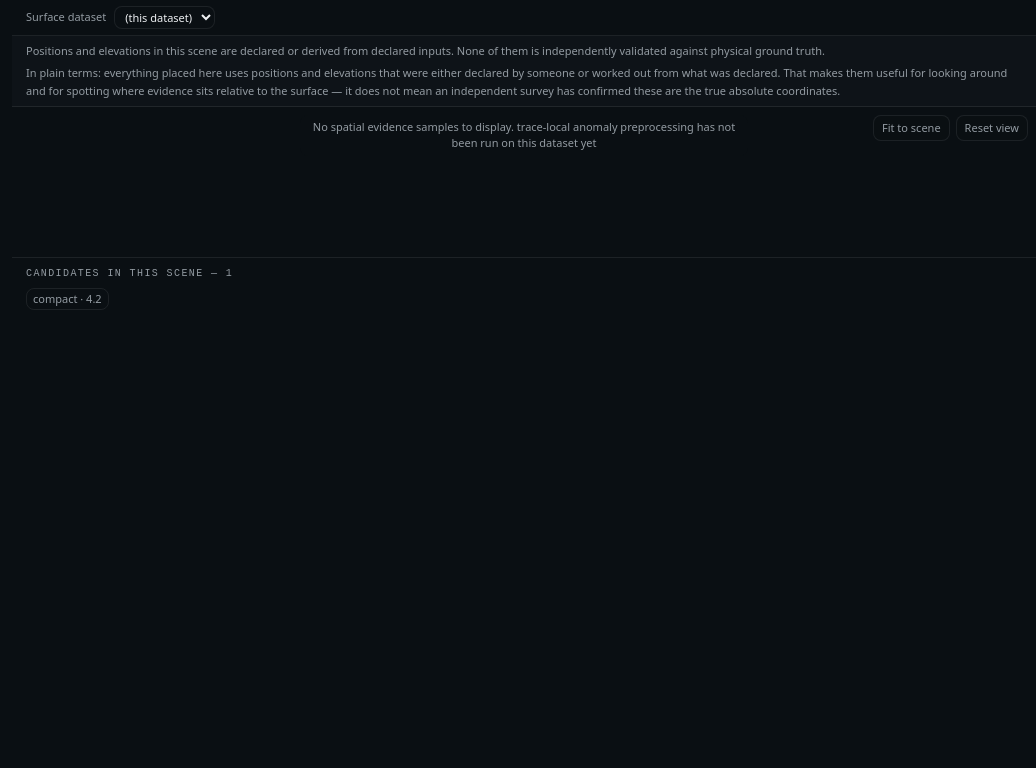
resolved scenes › shows the existing human review, read-only, for a reviewed candidate (Section 19)
expect the heading "Candidates in this scene — 1" is shown: met, box [26, 268, 233, 279]
Click the button "compact · 4.2" at (67, 299), box [26, 288, 109, 310]
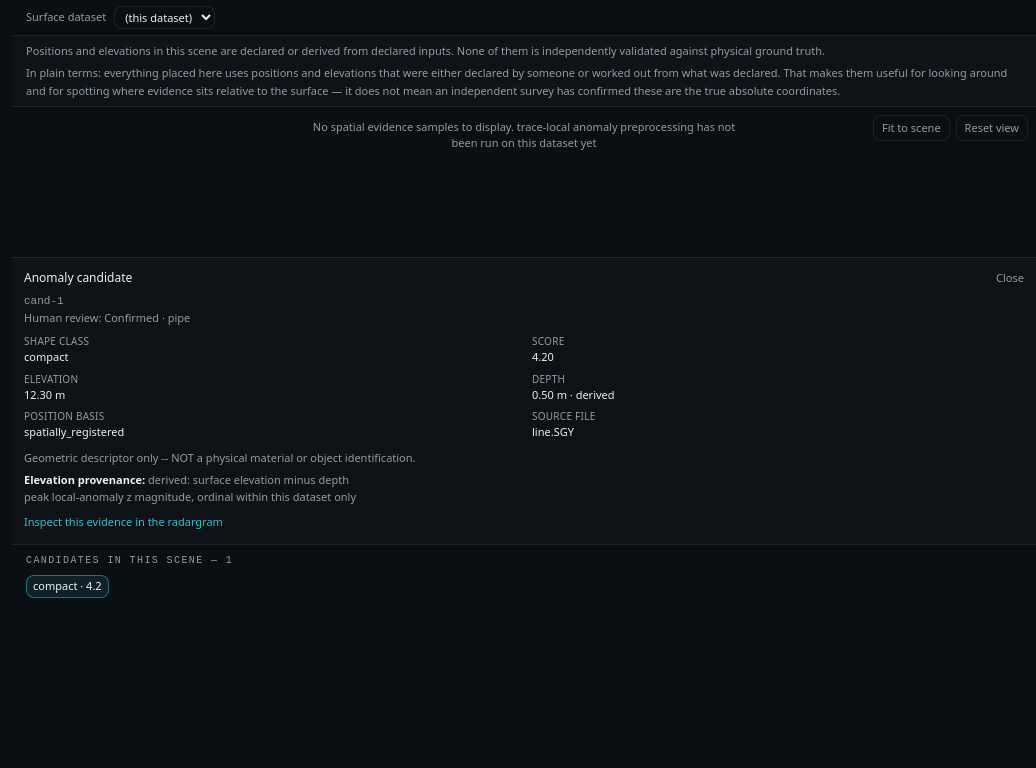
expect the text "Anomaly candidate" is shown: met, box [24, 270, 132, 286]
expect the text "Human review: Confirmed · pipe" is shown: met, box [24, 310, 190, 325]
